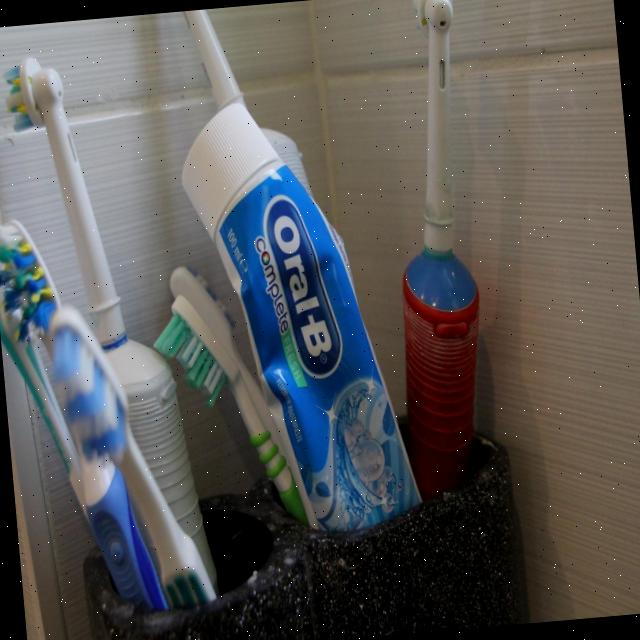Toothpaste: (170, 88, 428, 542)
